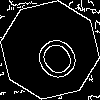O: (25, 25, 84, 86)
